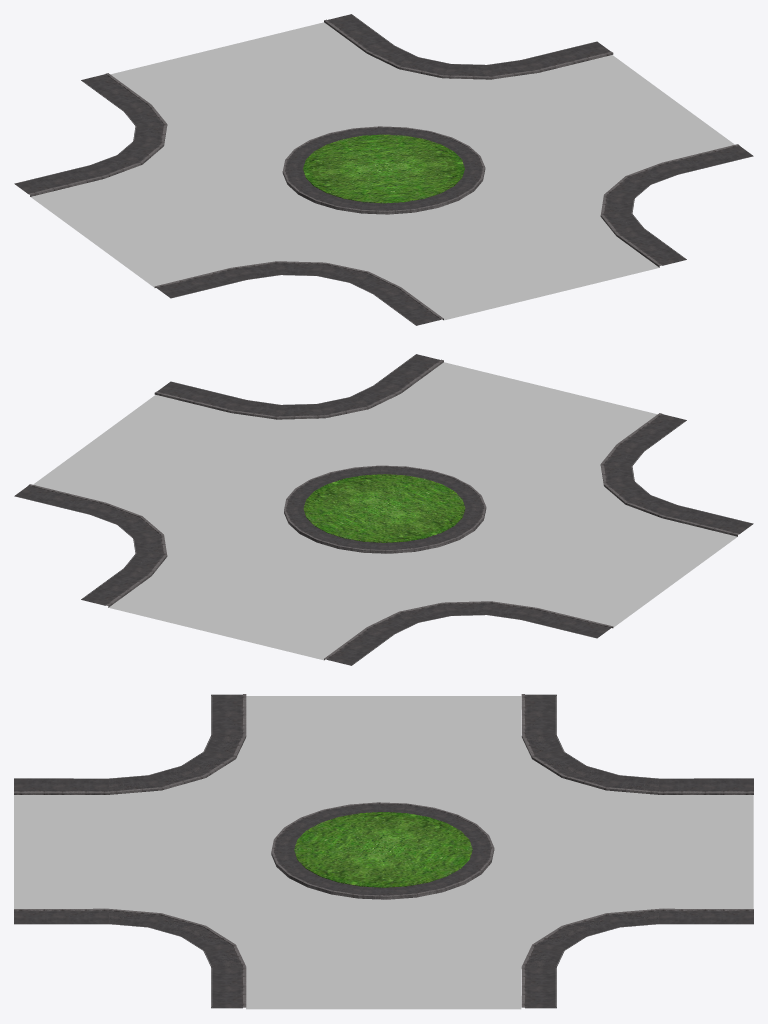
Rendered from round about 6 lines_mobile.FBX.
3 renders of one model, top to bottom at view 1: azimuth 30°, elevation 25°; view 2: azimuth 150°, elevation 25°; view 3: azimuth 270°, elevation 25°, orthographic. The views are drawn at different scales.
Parts seen in each view (by area): view 1: Object003; view 2: Object003; view 3: Object003.
Part boxes in pixels (box(x1,y1,x2,y2)): Object003: box(14, 14, 753, 325); Object003: box(14, 354, 753, 665); Object003: box(14, 694, 753, 1009).
Size of the model in its own units: 94.66 by 0.8545 by 94.38.
